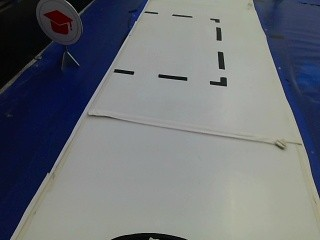school: (37, 1, 84, 69)
